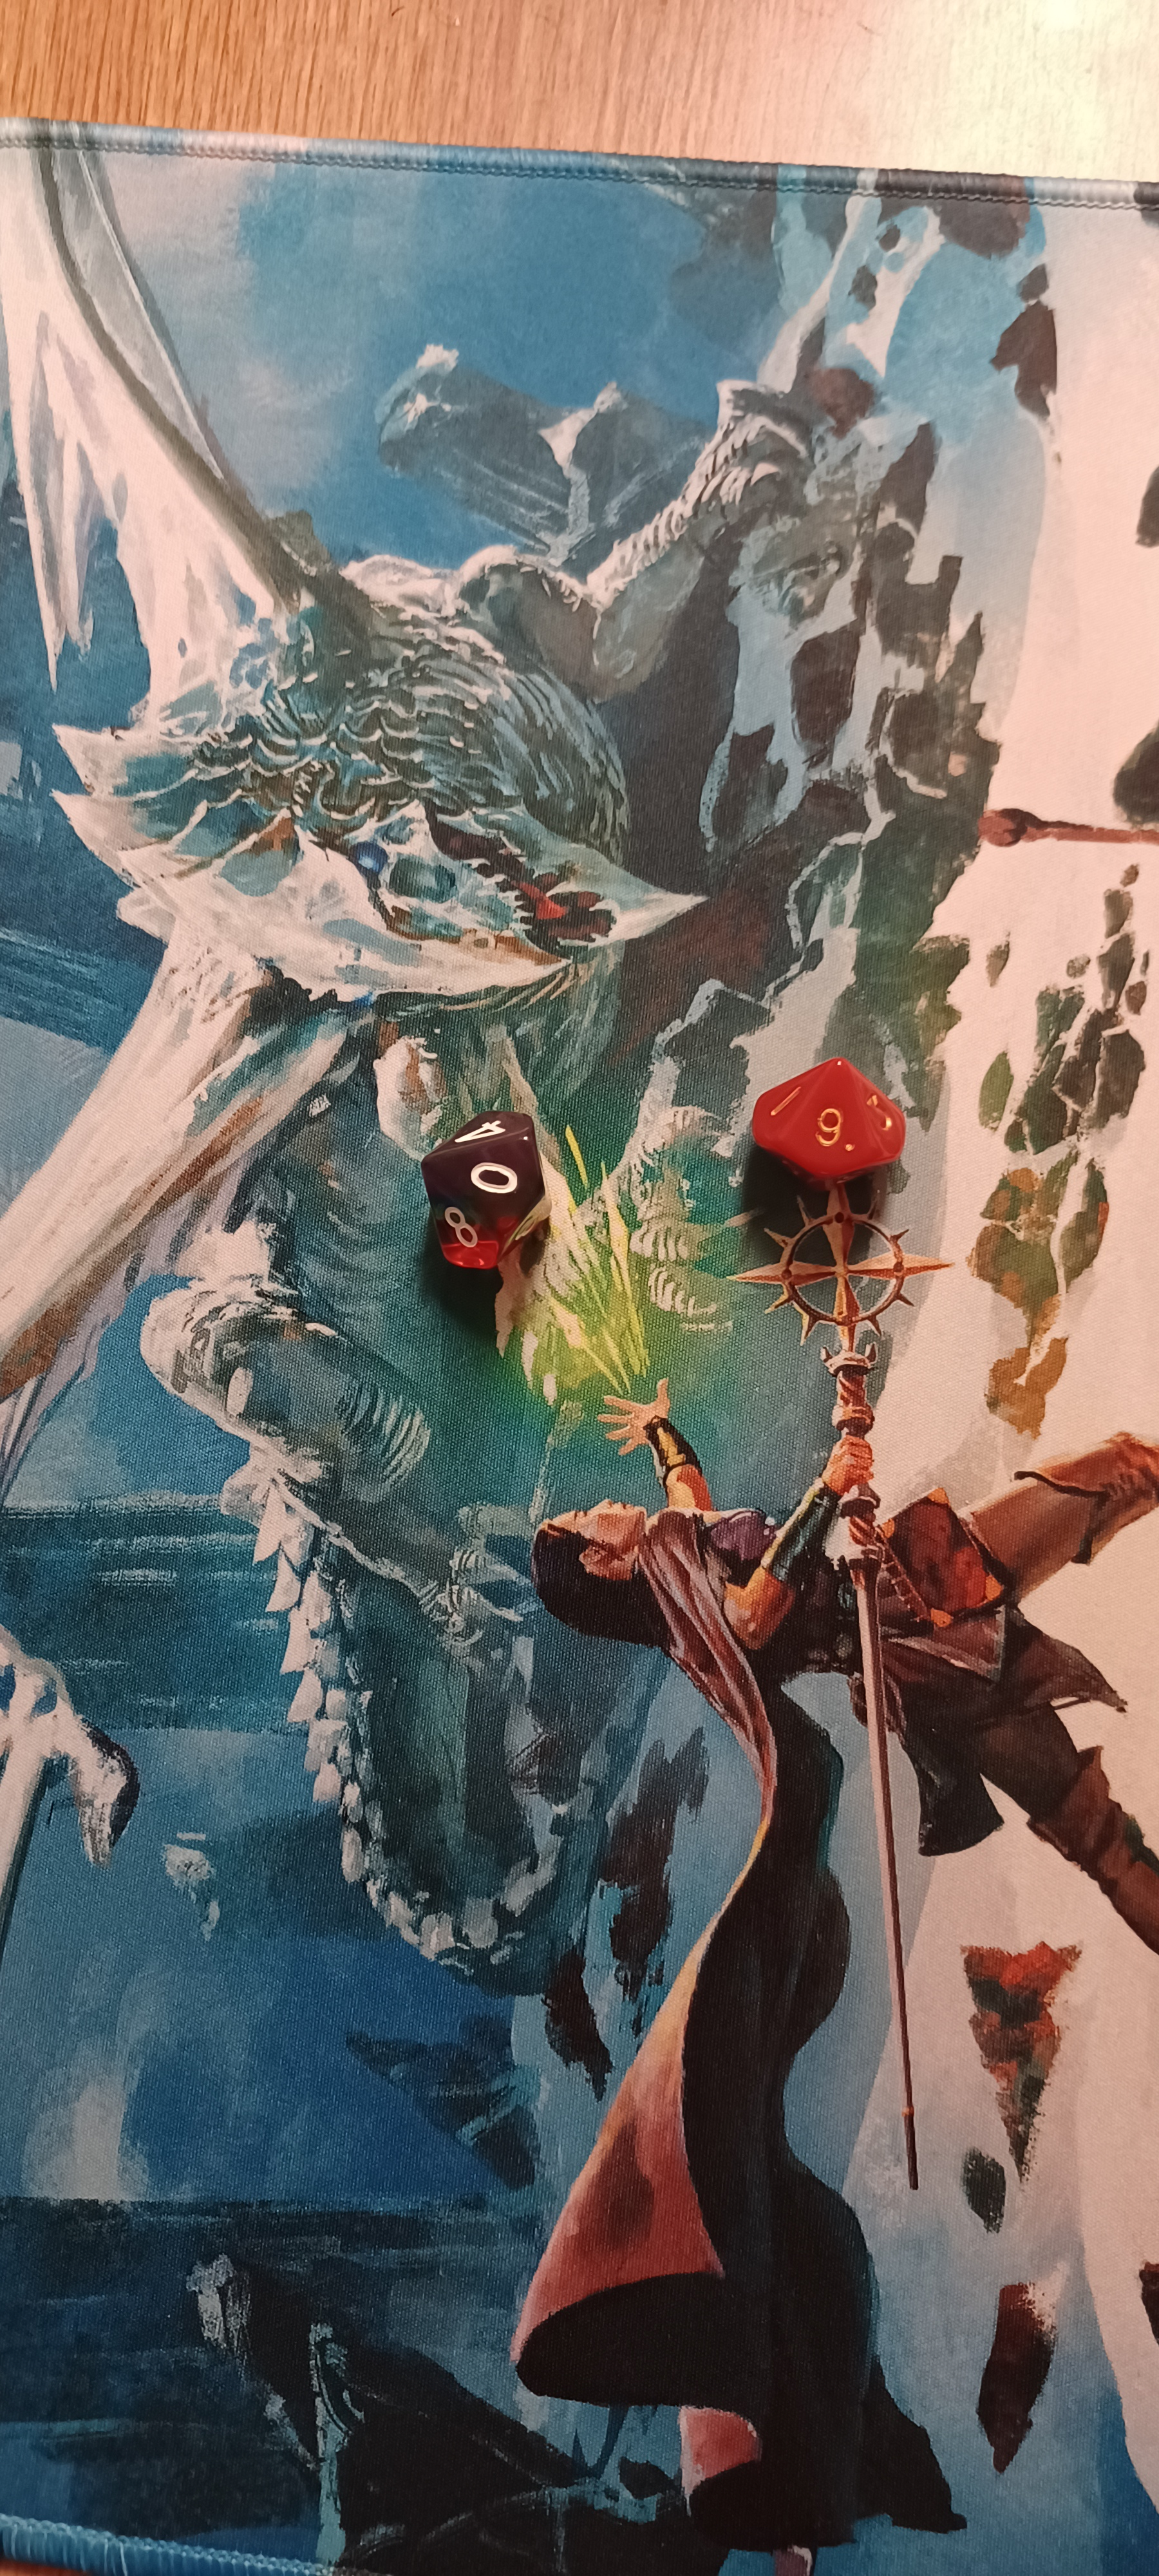nine: (717, 1015, 952, 1229)
zero: (373, 1079, 594, 1288)
